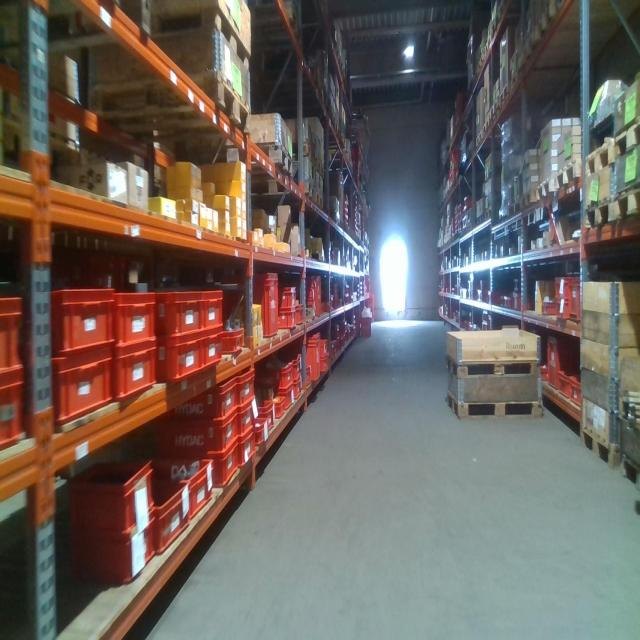pallet: (4, 9, 252, 75), (73, 74, 252, 146), (448, 351, 546, 385), (446, 394, 544, 424), (243, 138, 294, 183), (581, 419, 615, 476), (243, 177, 315, 201), (558, 156, 588, 200), (583, 200, 615, 239), (520, 22, 544, 74), (614, 119, 639, 165), (582, 136, 613, 173), (539, 2, 562, 45), (618, 452, 637, 502), (616, 184, 639, 225), (286, 139, 317, 166), (541, 174, 555, 211), (509, 65, 525, 95), (524, 186, 539, 213), (508, 196, 521, 225), (314, 187, 327, 214), (311, 157, 327, 175), (501, 82, 509, 108)
small_load_carrier: (66, 509, 157, 588), (60, 458, 156, 528), (48, 347, 115, 433), (44, 285, 114, 353), (159, 411, 238, 464), (142, 458, 214, 515), (230, 271, 283, 340), (159, 381, 239, 423), (147, 483, 191, 555), (111, 343, 159, 406), (148, 287, 205, 338), (156, 334, 204, 385), (2, 294, 30, 377), (544, 328, 579, 392), (116, 292, 157, 345), (2, 375, 29, 448), (203, 444, 240, 490), (252, 363, 294, 395), (199, 285, 222, 333), (231, 369, 257, 411), (220, 318, 248, 356), (200, 333, 222, 373), (306, 333, 321, 389), (234, 403, 255, 438), (237, 432, 257, 468), (568, 278, 582, 326), (554, 365, 573, 400), (314, 272, 326, 321), (276, 283, 296, 312), (256, 399, 275, 429), (253, 416, 269, 450), (268, 394, 288, 419), (288, 352, 302, 384), (554, 275, 572, 298), (569, 376, 582, 407), (359, 310, 373, 338), (276, 312, 298, 329), (283, 385, 295, 415), (554, 298, 568, 322), (294, 305, 306, 332), (292, 380, 302, 404), (317, 357, 330, 373), (318, 338, 327, 357), (541, 301, 554, 312)
